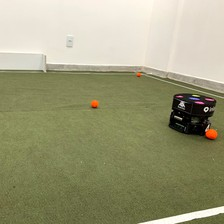ball: (203, 126, 219, 141), (88, 96, 100, 109), (133, 70, 142, 79)
goal: (1, 48, 49, 74)
robot: (166, 89, 218, 136)
